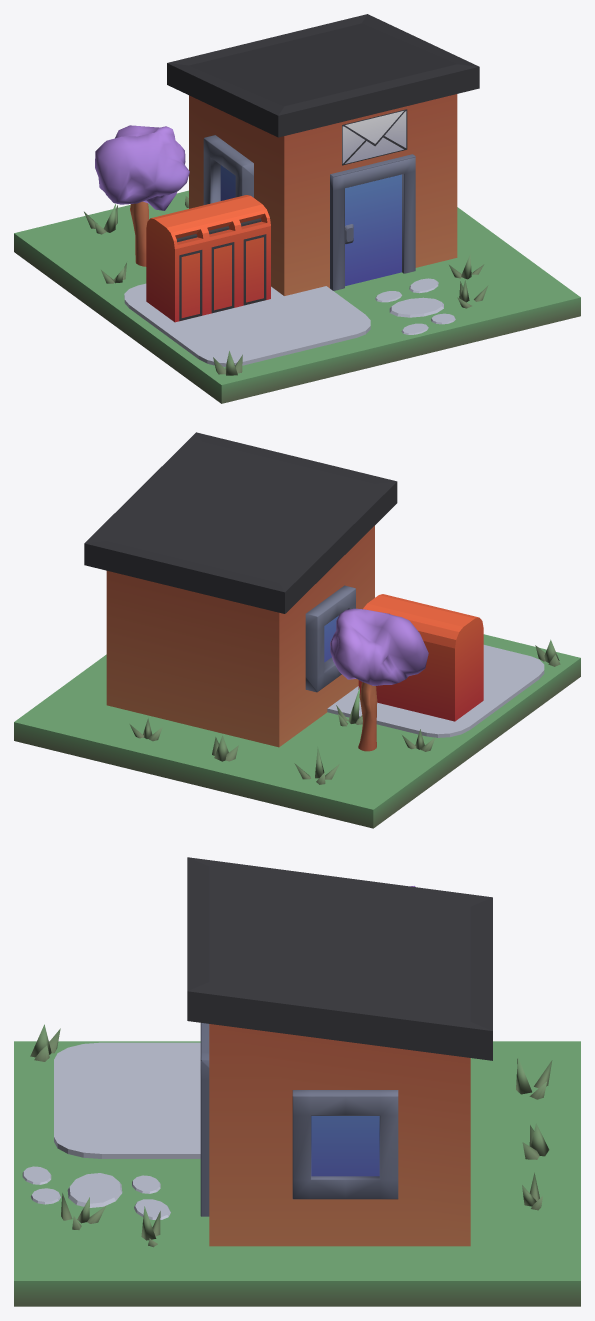
File: delivery_hub.glb
The picture shows the model from 3 angles, top to bottom: view 1: azimuth 30°, elevation 25°; view 2: azimuth 150°, elevation 25°; view 3: azimuth 270°, elevation 25°; orthographic projection. The views are drawn at different scales.
Parts seen in each view (by area): view 1: delivery_hub; view 2: delivery_hub; view 3: delivery_hub.
Boxes of the visible parts, bbox=[...] form: delivery_hub: bbox=[14, 14, 580, 403]; delivery_hub: bbox=[14, 432, 580, 828]; delivery_hub: bbox=[14, 857, 580, 1306].
Bounding box in the file's own units: 1 × 0.5646 × 1.
Materials: 1 (1 with a texture image).
